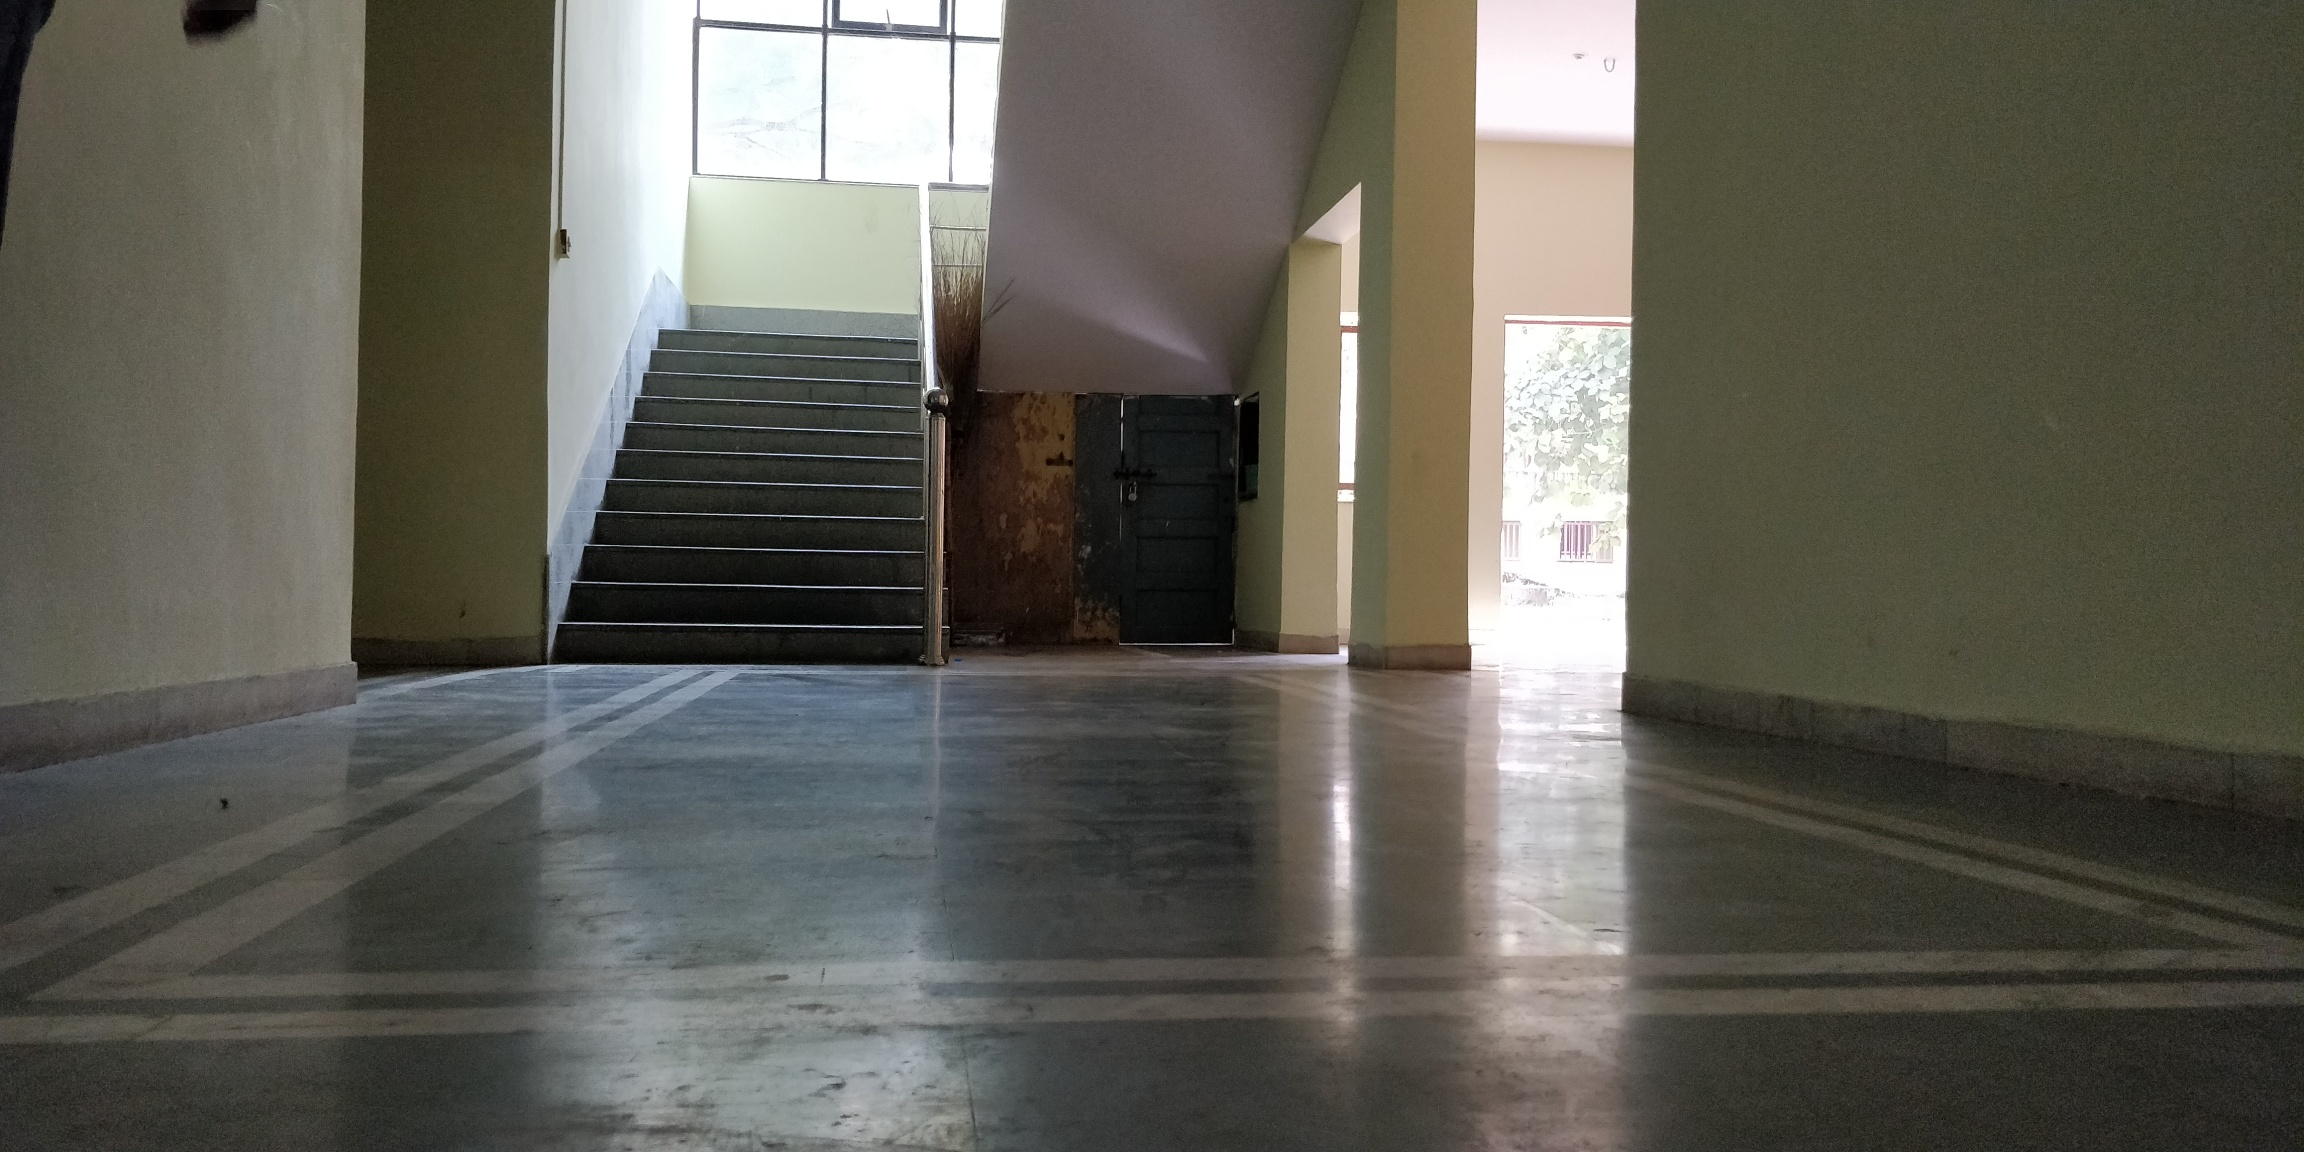stairs_up: (569, 332, 917, 677)
